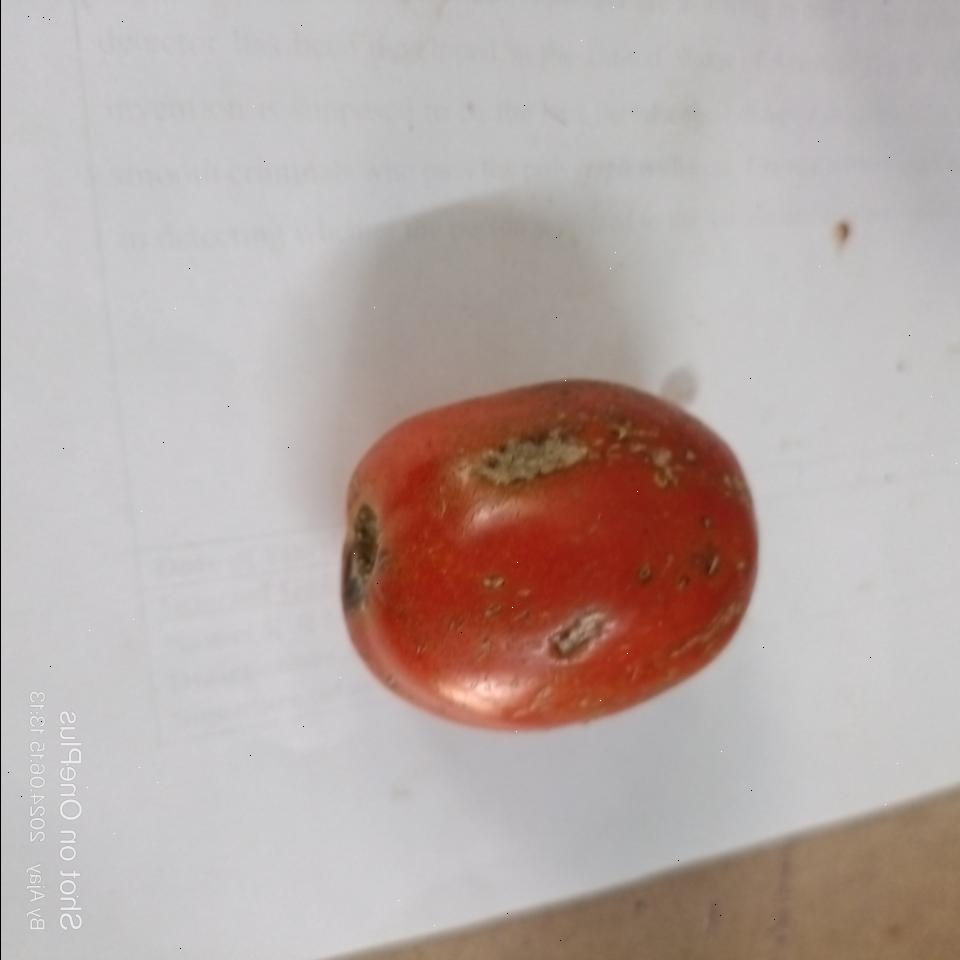Bacterial_Spot: (460, 424, 605, 484), (613, 424, 704, 493), (540, 608, 618, 668), (689, 516, 734, 586), (632, 554, 666, 588)
